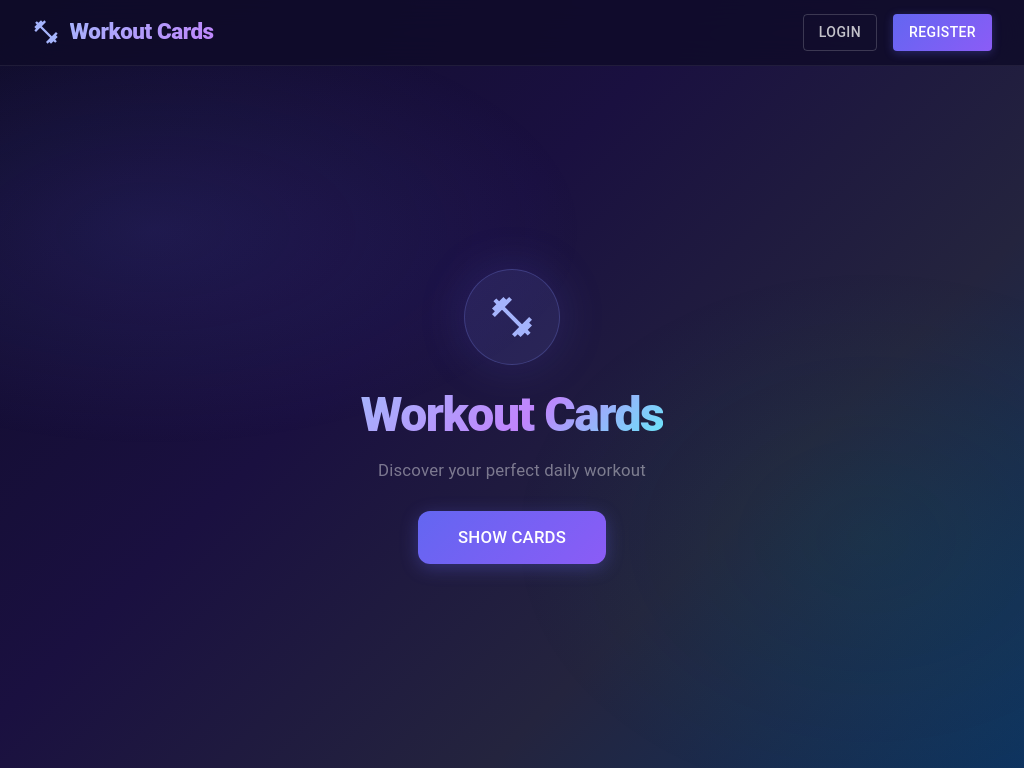
Test: App › shows one randomly selected card for each difficulty
Click the button "Show Cards".
click(512, 538)  # box [418, 511, 606, 564]
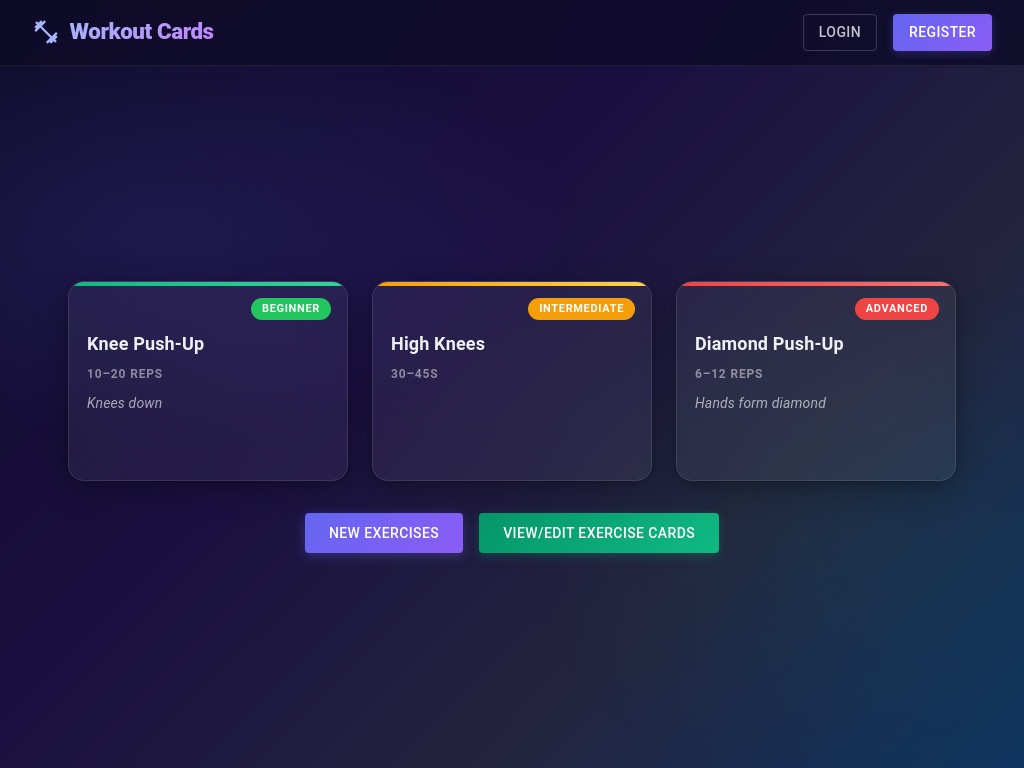
expect the text "Beginner" is shown: met, box [251, 298, 331, 320]
expect the text "Intermediate" is shown: met, box [528, 298, 635, 320]
expect the text "Advanced" is shown: met, box [855, 298, 939, 320]
